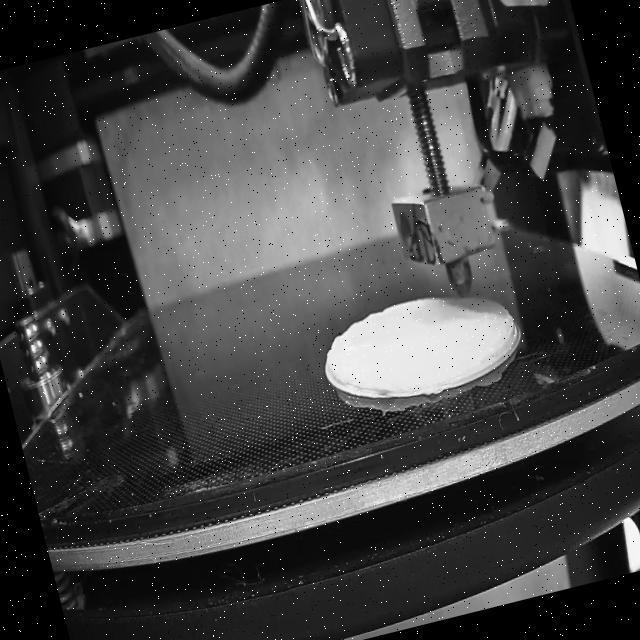over_extrusion: (477, 292, 522, 359), (318, 327, 355, 388)
